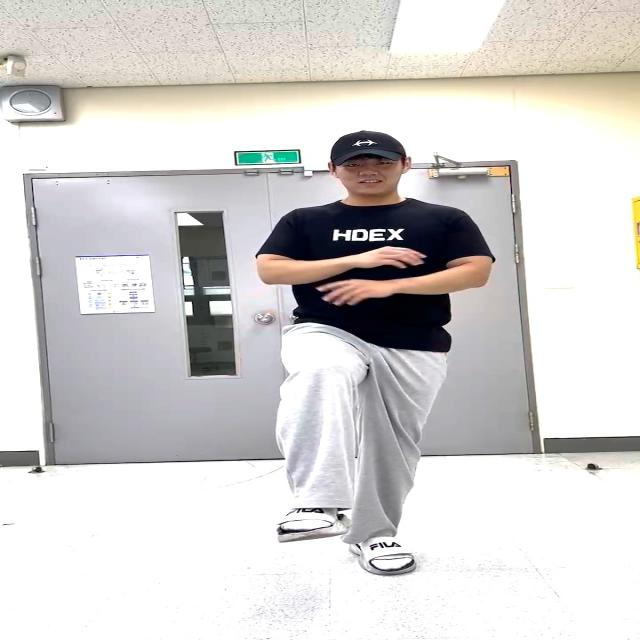leg: (286, 330, 356, 540)
